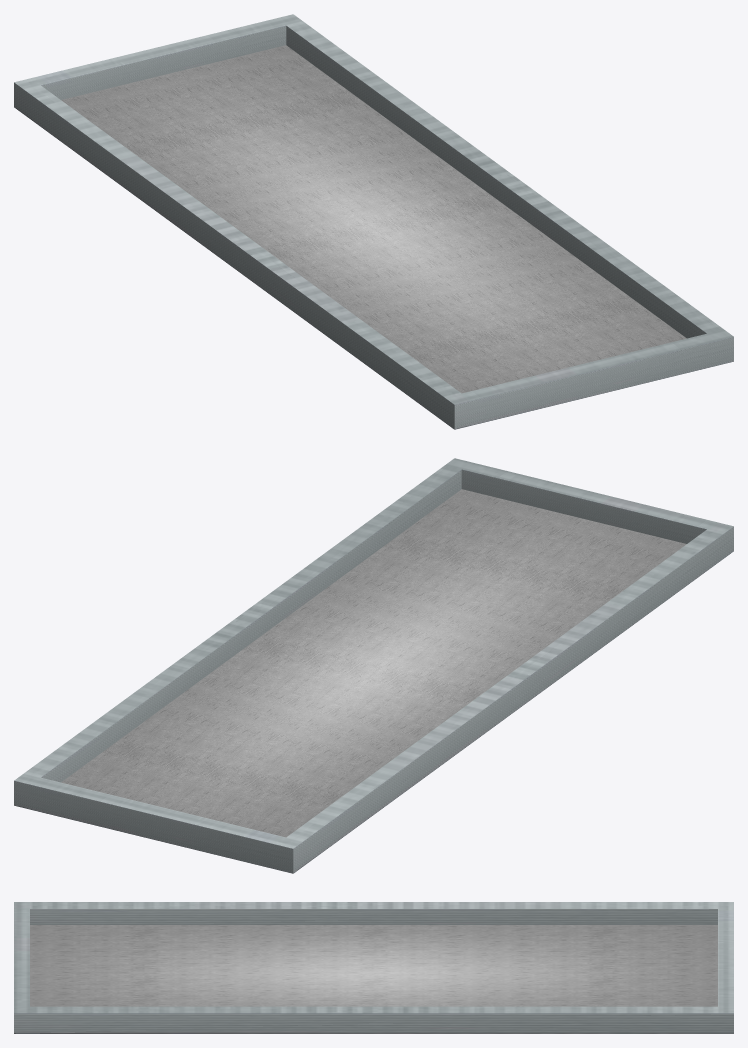
File: waste-water-disposal-ROOF.glb
The picture shows the model from 3 angles, top to bottom: view 1: azimuth 30°, elevation 25°; view 2: azimuth 150°, elevation 25°; view 3: azimuth 270°, elevation 25°; orthographic projection. The views are drawn at different scales.
Parts seen in each view (by area): view 1: ROOF (1), Line1156; view 2: ROOF (1), Line1156; view 3: ROOF (1), Line1156.
Boxes of the visible parts, x1=… form: ROOF (1): x1=61, y1=45, x2=686, y2=393; Line1156: x1=14, y1=14, x2=733, y2=429; ROOF (1): x1=61, y1=489, x2=686, y2=837; Line1156: x1=14, y1=458, x2=733, y2=873; ROOF (1): x1=30, y1=925, x2=717, y2=1006; Line1156: x1=14, y1=902, x2=733, y2=1033.
Size of the model in its own units: 8.2 by 0.7 by 22.4.
Materials: 2 (2 with a texture image).
